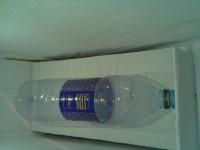BIODEGRADABLE: (91, 12, 172, 140)
